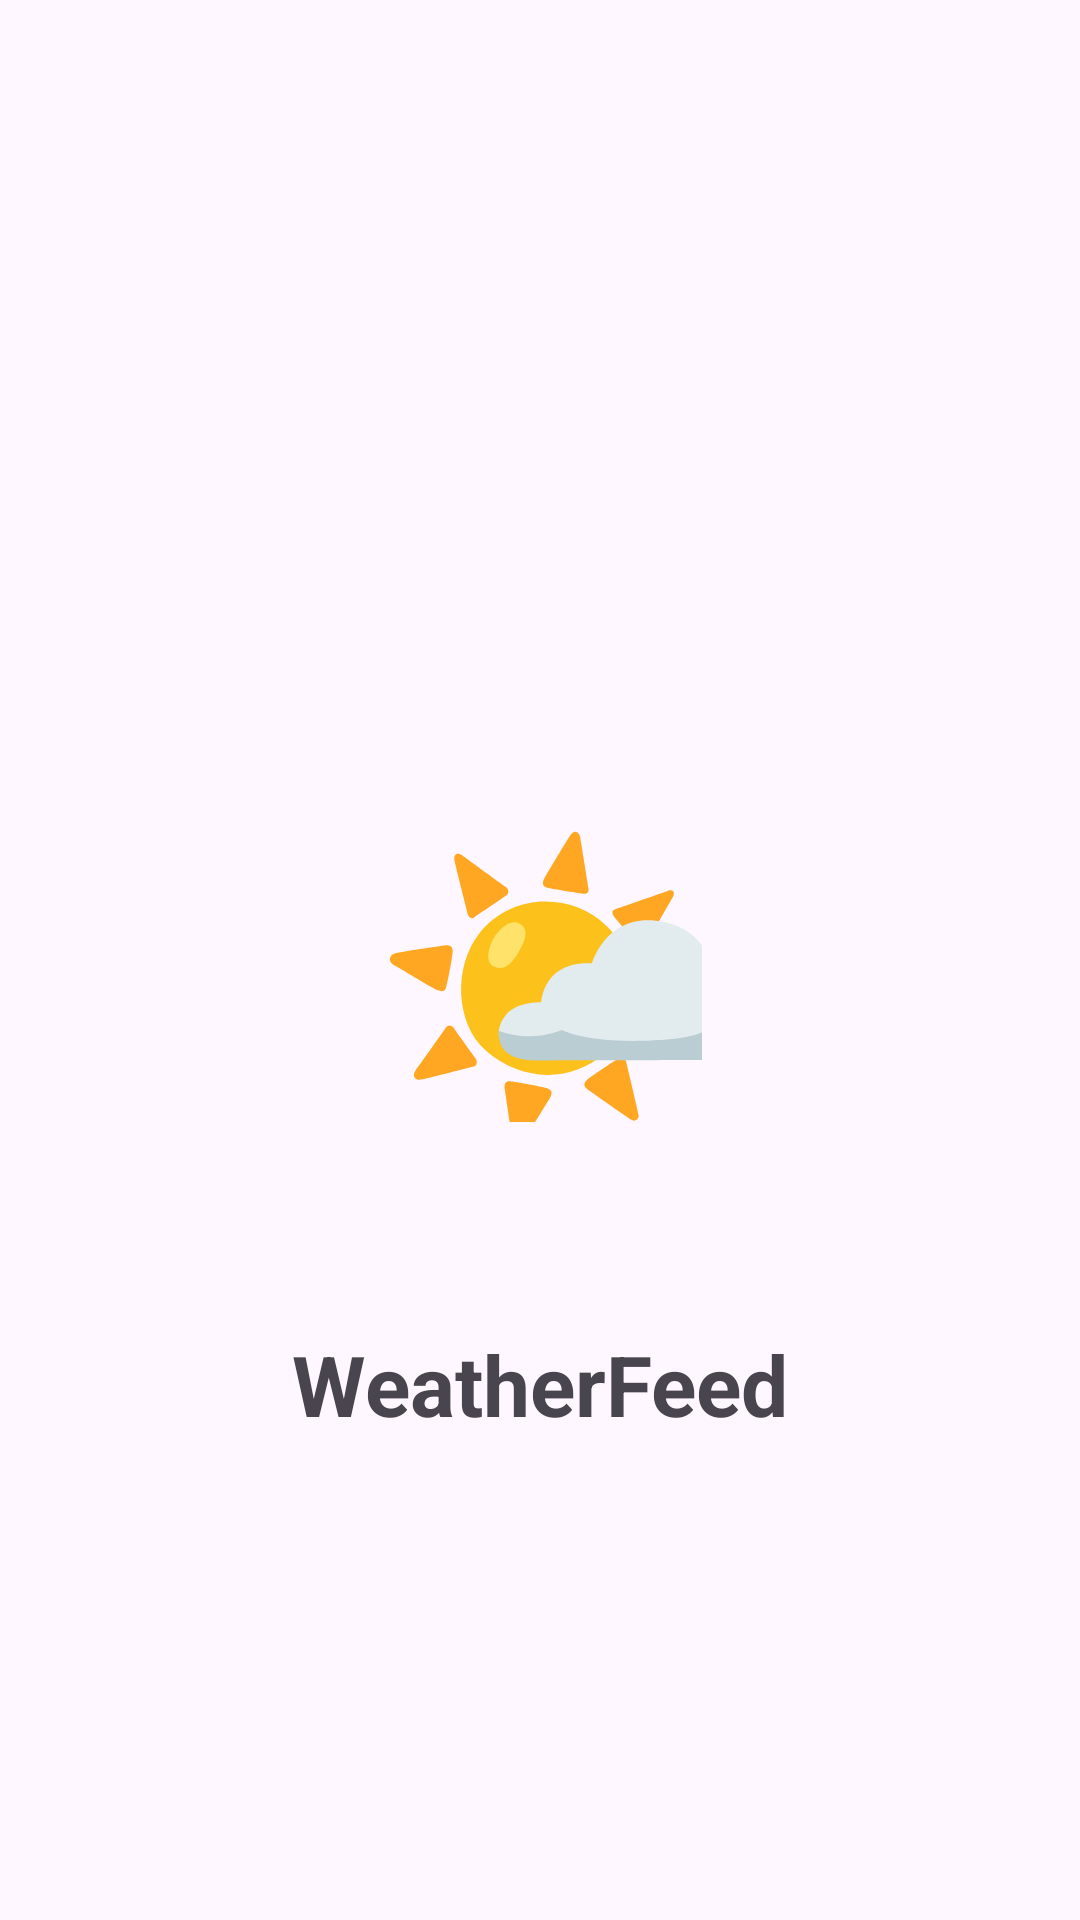

Point at icon controls on the screen. Image size 1080px x 1920px, points as [x,y].
sun: [546,976]
